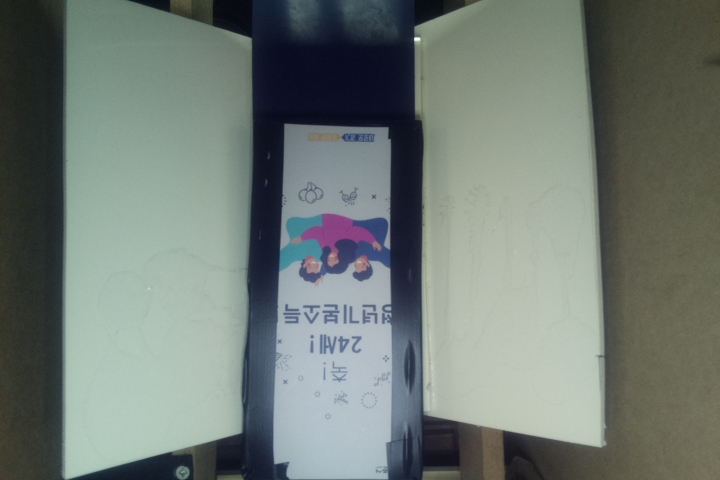book: (249, 113, 421, 480)
